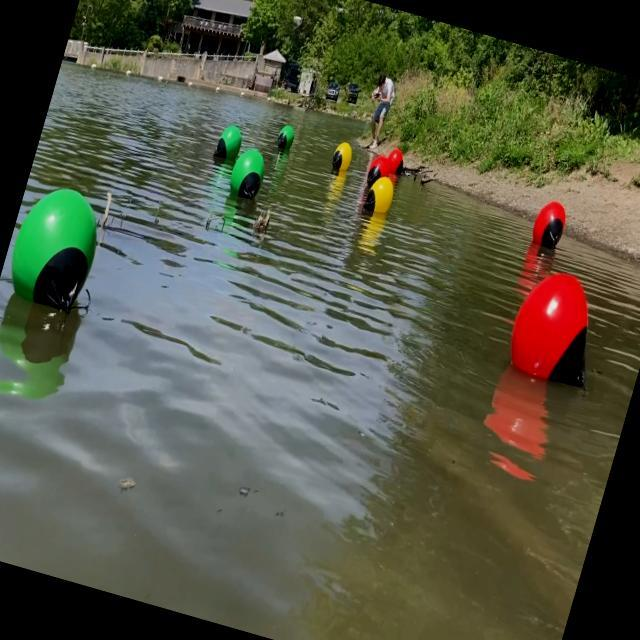buoy: (499, 263, 616, 395), (0, 177, 111, 316), (226, 142, 271, 200), (528, 196, 570, 254), (363, 172, 398, 216), (212, 120, 245, 165), (364, 152, 392, 189), (328, 139, 354, 175), (382, 146, 409, 178), (274, 124, 296, 152)
